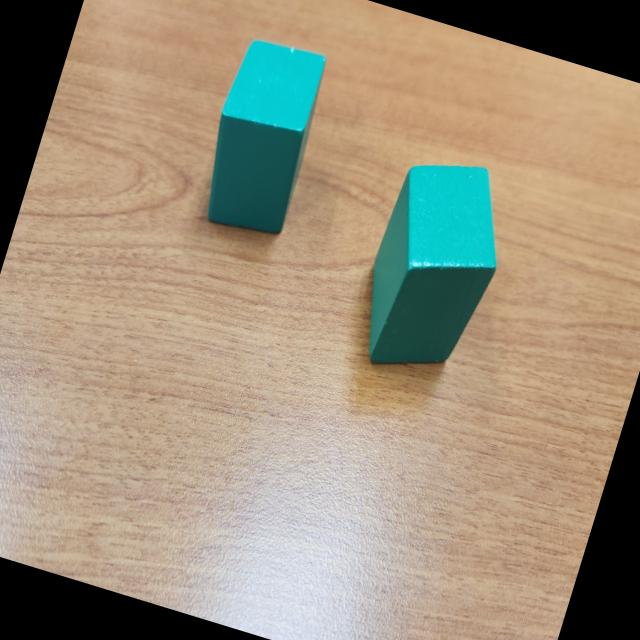green: (344, 142, 524, 390), (188, 29, 336, 244)
